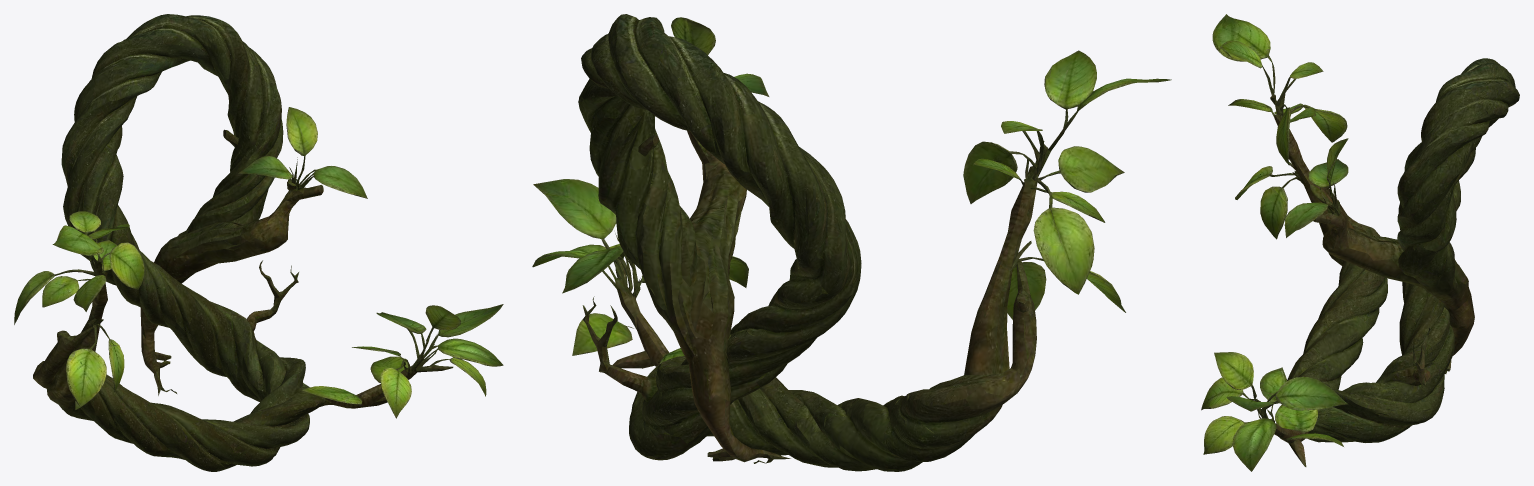
Rendered from plant-vine-final.glb.
3 renders of one model, left to right at view 1: azimuth 30°, elevation 25°; view 2: azimuth 150°, elevation 25°; view 3: azimuth 270°, elevation 25°, orthographic. The views are drawn at different scales.
Parts seen in each view (by area): view 1: output_unwrapped; view 2: output_unwrapped; view 3: output_unwrapped.
Boxes of the visible parts, <box> form: output_unwrapped: <box>14,14,503,471</box>; output_unwrapped: <box>532,14,1171,471</box>; output_unwrapped: <box>1201,14,1519,471</box>.
Bounding box in the file's own units: 0.6383 × 0.5 × 0.39.
Materials: 1 (1 with a texture image).
